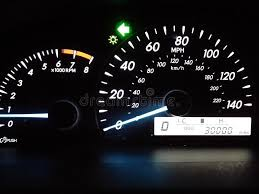Digital_Meter: (154, 117, 252, 136)
